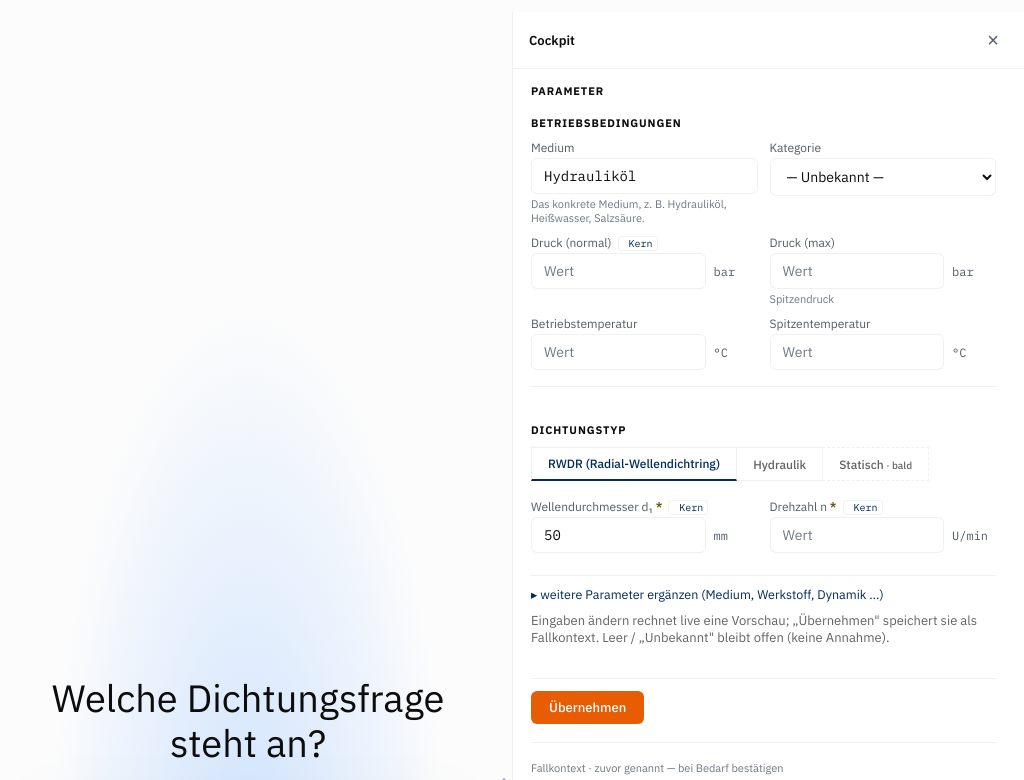
it: cockpit visibility (claude.ai chat-only ↔ split) › the cockpit header closes back to centered chat-only (panel stays MOUNTED, hidden)
Click the button with test id "cockpit-close".
click(993, 40)  # box 978,25 -> 1008,55
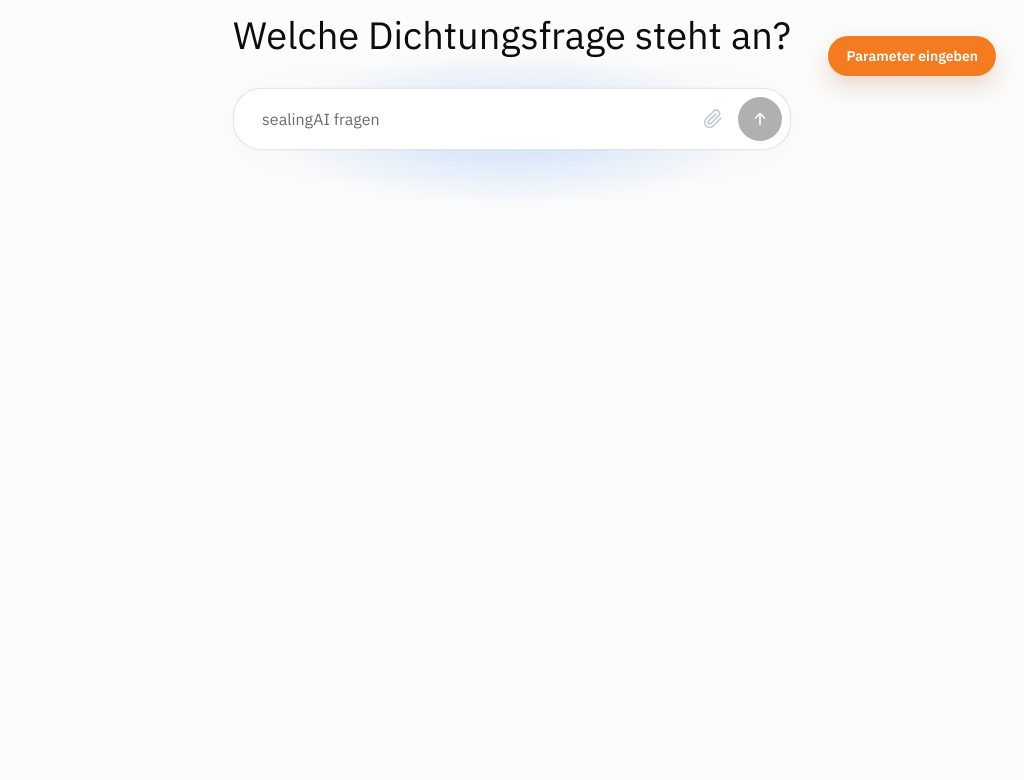
Check: the button with test id "open-cockpit" is shown, box 828,36 -> 996,76
